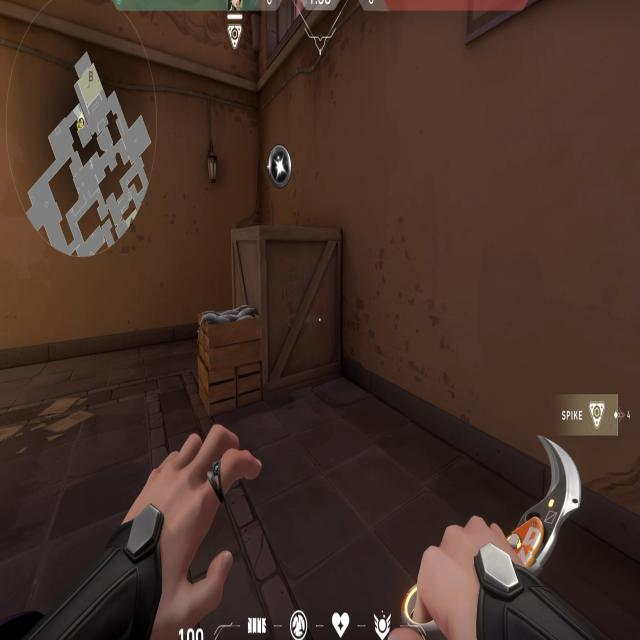B_Main_Wallbang: (189, 147, 359, 418)
